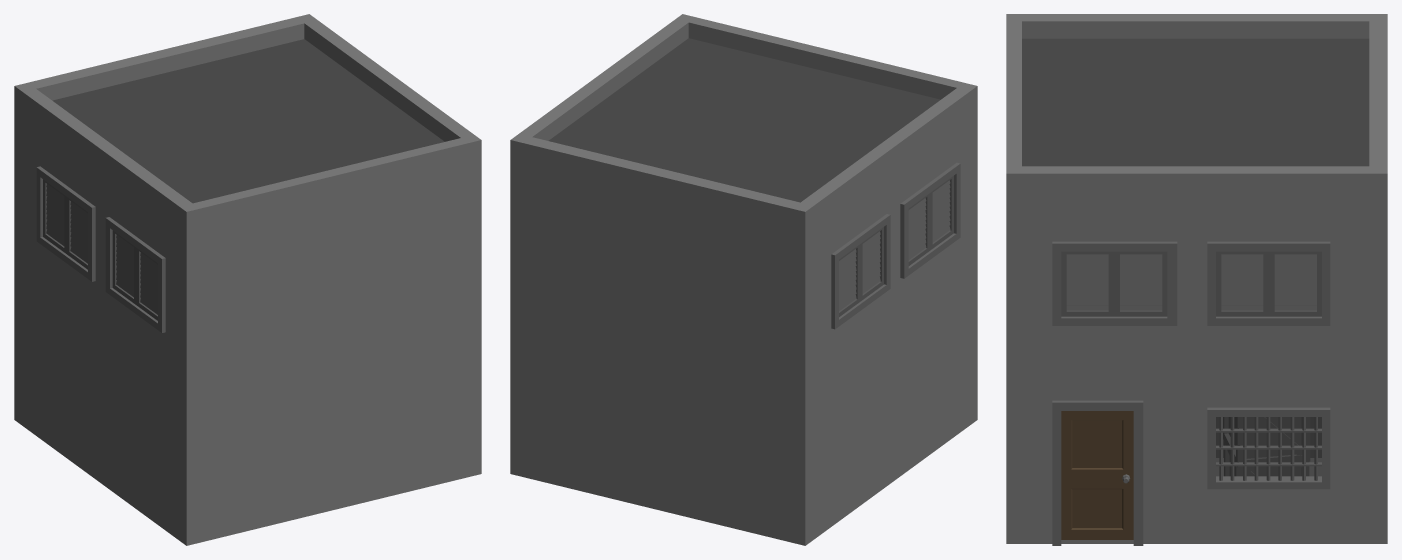
File: ClosedBuilding1-1.fbx
3 views of the same model, side by side, from view 1: azimuth 30°, elevation 25°; view 2: azimuth 150°, elevation 25°; view 3: azimuth 270°, elevation 25° (orthographic). The views are drawn at different scales.
Parts seen in each view (by area): view 1: ClosedBuilding1.000_LOD0; view 2: ClosedBuilding1.000_LOD0; view 3: ClosedBuilding1.000_LOD0.
Boxes of the visible parts, x1,y1,x2,y2 form: ClosedBuilding1.000_LOD0: [14, 14, 481, 545]; ClosedBuilding1.000_LOD0: [510, 14, 977, 545]; ClosedBuilding1.000_LOD0: [1006, 14, 1387, 545].
Size of what is drawn, in the model's own units: 1097 by 1147 by 1071.
Materials: 1 (1 with a texture image).
